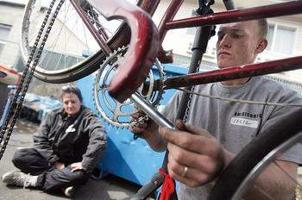person: (129, 6, 301, 200)
